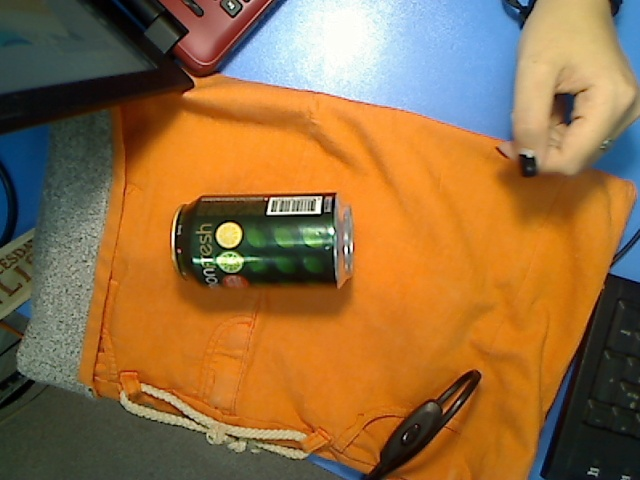can: (170, 193, 354, 293)
